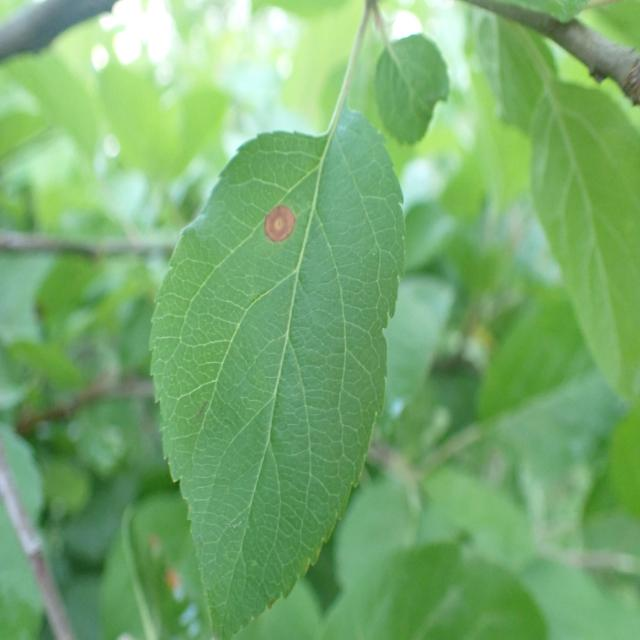frog-eye-leaf-spot: (148, 106, 406, 640)
